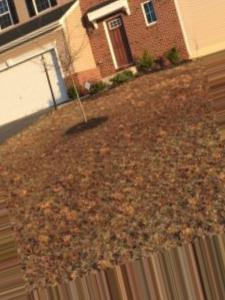patch: (1, 121, 225, 246), (31, 127, 156, 216), (77, 70, 171, 135), (71, 98, 208, 135), (150, 123, 213, 193), (1, 139, 63, 203), (93, 215, 151, 275), (20, 216, 78, 272), (113, 78, 212, 105), (176, 62, 223, 116), (185, 198, 222, 236)
